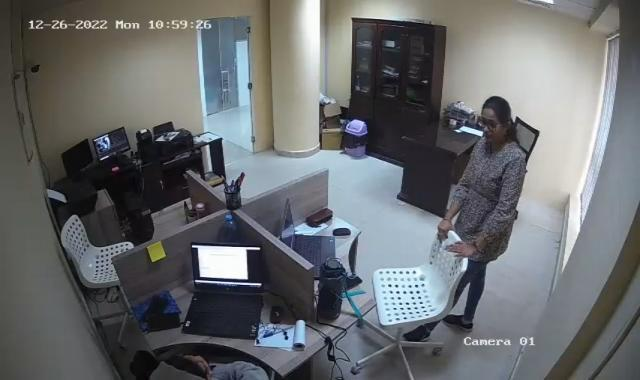no_hairnet: (478, 93, 510, 146)
